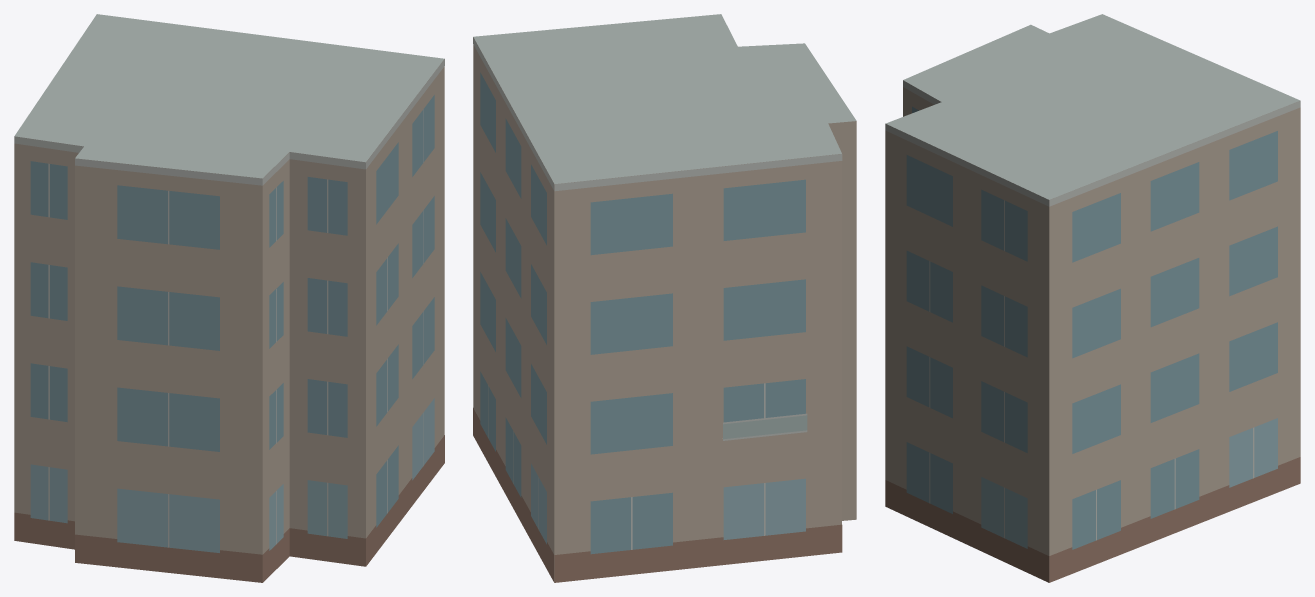
Rendered from survey-upis-32984867.glb.
3 renders of one model, left to right at view 1: azimuth 30°, elevation 25°; view 2: azimuth 150°, elevation 25°; view 3: azimuth 270°, elevation 25°, orthographic. The views are drawn at different scales.
Visible parts, largest first — view 1: survey-upis-32984867.tmp; view 2: survey-upis-32984867.tmp; view 3: survey-upis-32984867.tmp.
Part boxes in pixels (left/top/right/bottom): survey-upis-32984867.tmp: left=14, top=14, right=444, bottom=582; survey-upis-32984867.tmp: left=473, top=14, right=856, bottom=582; survey-upis-32984867.tmp: left=885, top=14, right=1300, bottom=582.
Bounding box in the file's own units: 14.27 × 13.7 × 13.47.
